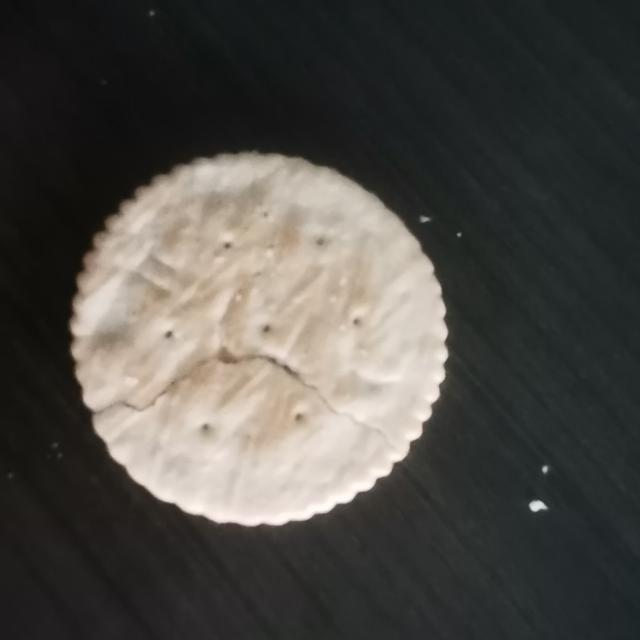Fracture: (88, 342, 414, 463)
